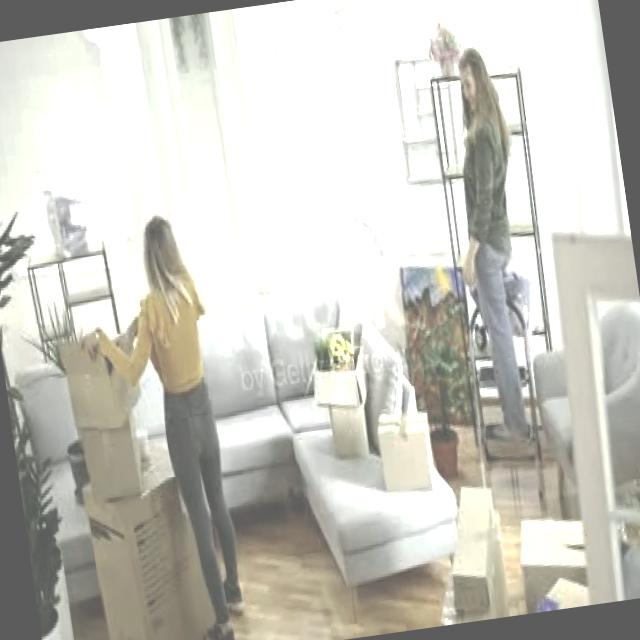Box: (83, 492, 206, 640), (442, 480, 511, 612), (64, 351, 140, 436), (514, 513, 588, 588), (316, 374, 374, 451), (82, 434, 146, 501), (378, 420, 436, 492)
